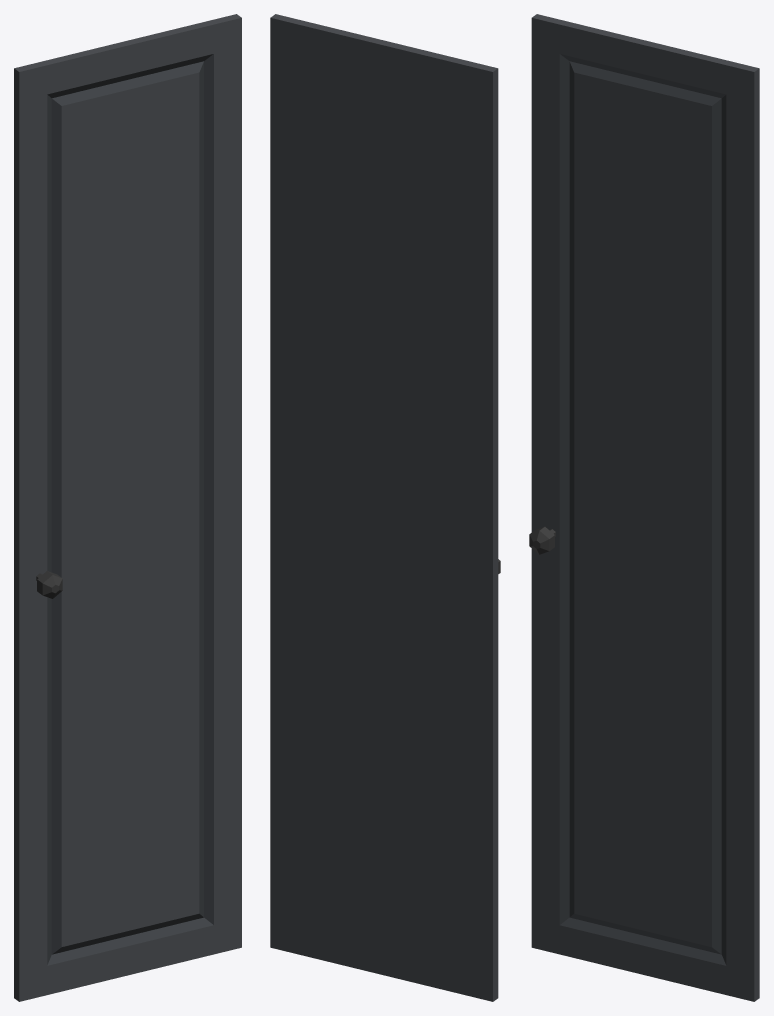
Rendered from Wardrobe7_C2_06.fbx.
3 views of the same model, side by side, from view 1: azimuth 30°, elevation 25°; view 2: azimuth 150°, elevation 25°; view 3: azimuth 330°, elevation 25° (orthographic).
Visible parts, largest first — view 1: Wardrobe7_C2_06; view 2: Wardrobe7_C2_06; view 3: Wardrobe7_C2_06.
Part boxes in pixels (x1=…): Wardrobe7_C2_06: x1=14, y1=14, x2=241, y2=1001; Wardrobe7_C2_06: x1=270, y1=14, x2=500, y2=1001; Wardrobe7_C2_06: x1=529, y1=14, x2=759, y2=1001.
Size of the model in its own units: 50 by 200 by 8.1.
